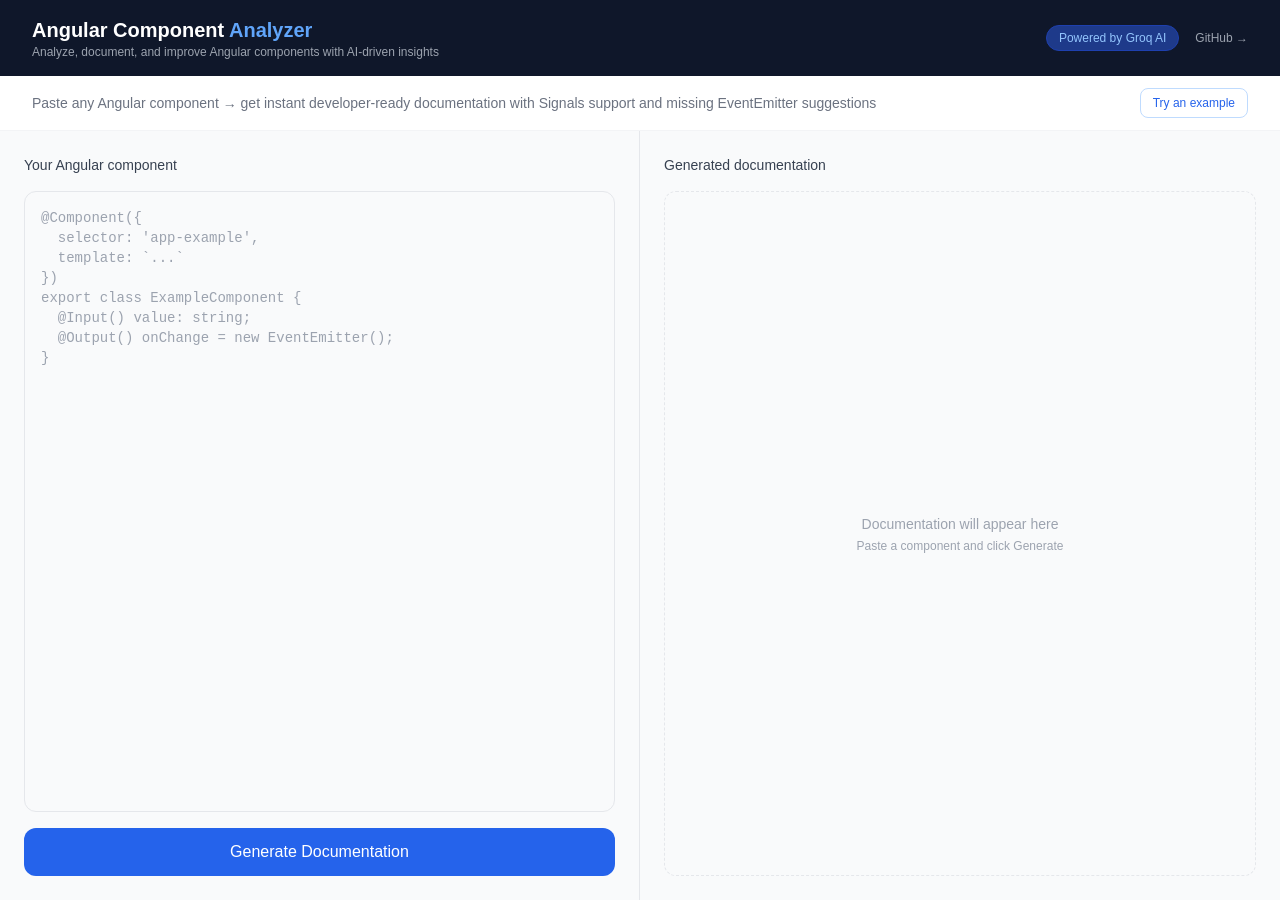
Test: Angular Component Analyzer › Try an example fills the textarea
Step 1. Click the button "Try an example" → (1194, 103), box [1140,88,1248,118]
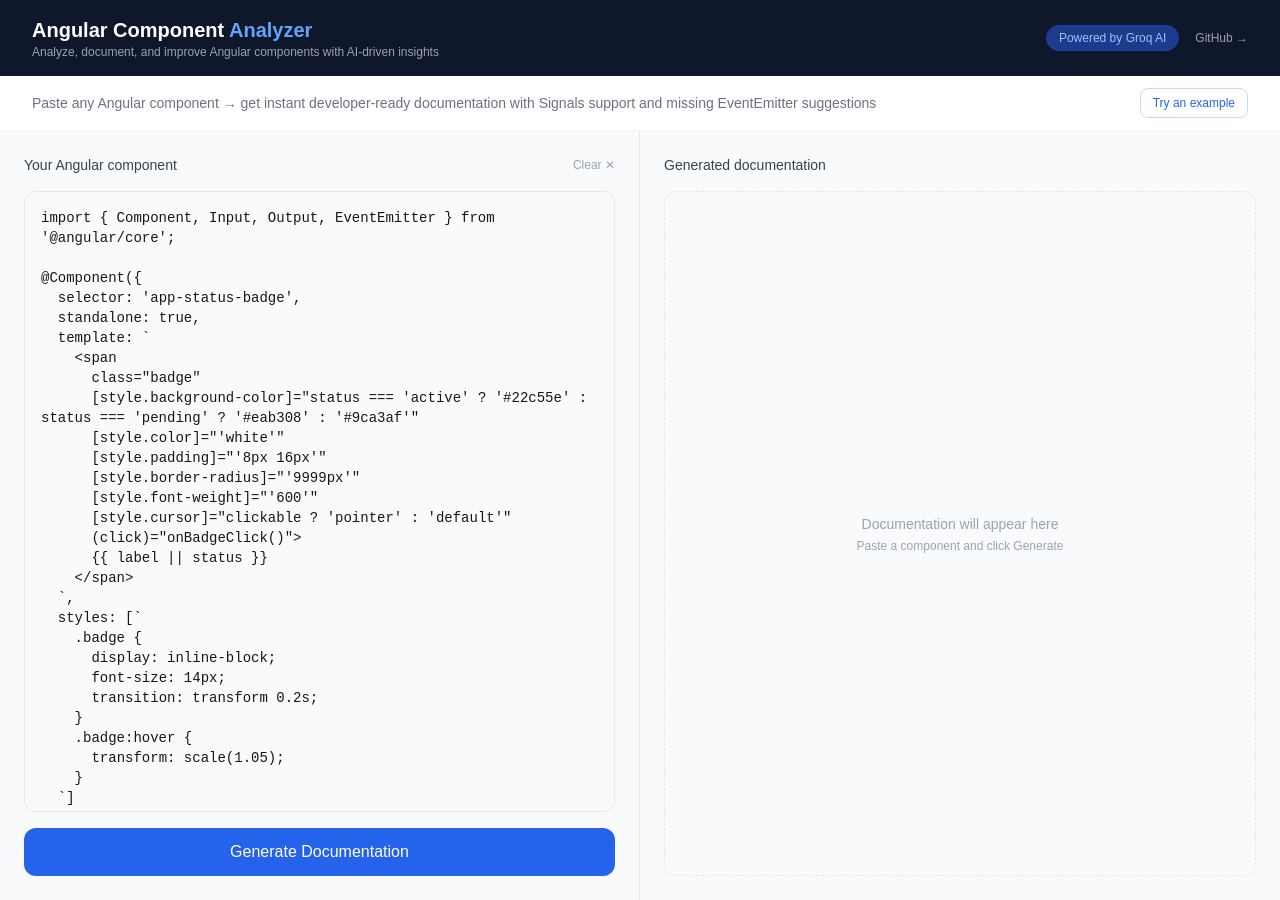
Expected: the text box showing "StatusBadgeComponent" is shown, [24,191,615,812]
